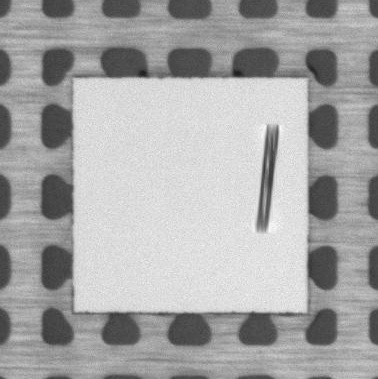DIE_INK: (252, 121, 283, 243)
